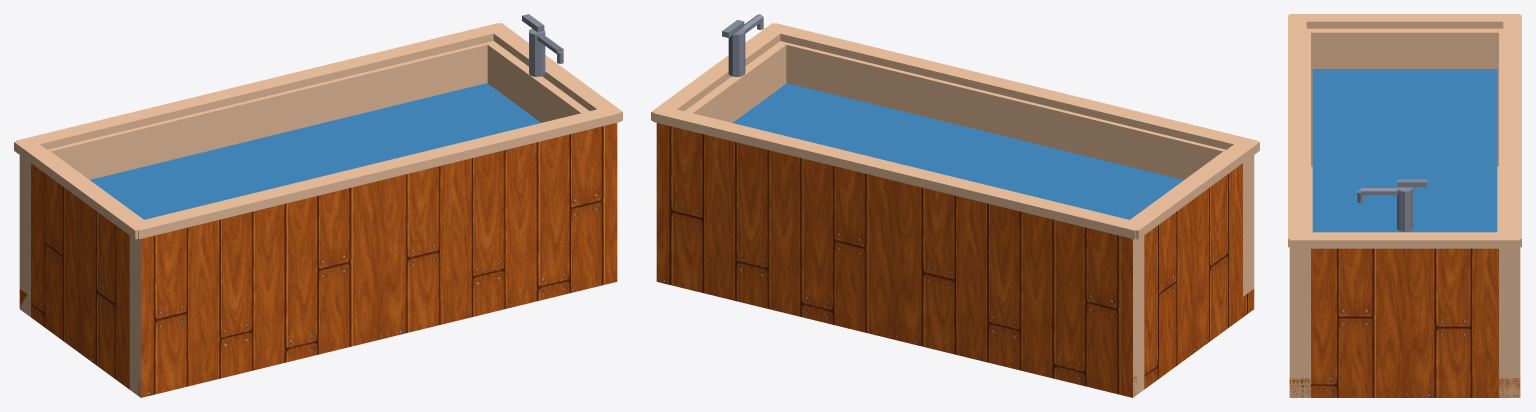
Rendered from Bathtub.fbx.
3 views of the same model, side by side, from view 1: azimuth 30°, elevation 25°; view 2: azimuth 150°, elevation 25°; view 3: azimuth 270°, elevation 25° (orthographic). The views are drawn at different scales.
Visible parts, largest first — view 1: Bathtub; view 2: Bathtub; view 3: Bathtub.
Boxes of the visible parts, box(x1,y1,x2,y2) form: Bathtub: box(14, 14, 622, 397); Bathtub: box(651, 14, 1259, 397); Bathtub: box(1288, 14, 1521, 397).
Bounding box in the file's own units: 1.74 × 0.746 × 0.76.
